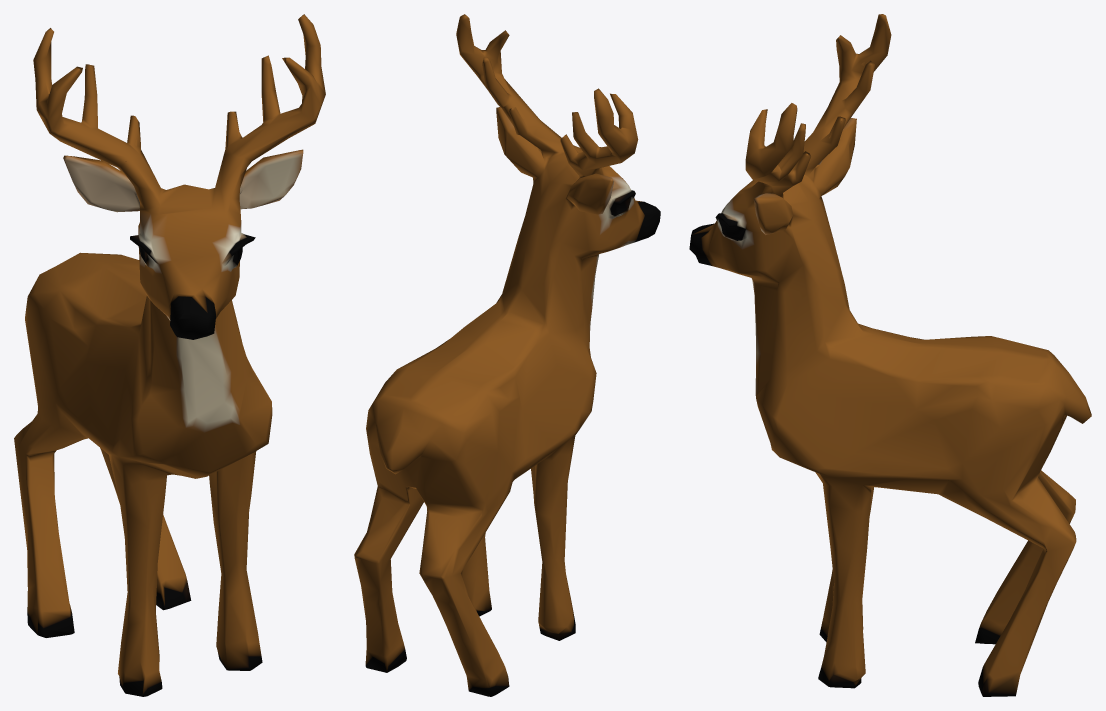
File: gen3d-deer-lod0.glb
The picture shows the model from 3 angles, left to right: view 1: azimuth 30°, elevation 25°; view 2: azimuth 150°, elevation 25°; view 3: azimuth 270°, elevation 25°; orthographic projection. The views are drawn at different scales.
Visible parts, largest first — view 1: part_0; view 2: part_0; view 3: part_0.
Boxes of the visible parts, box(x1,y1,x2,y2) form: part_0: box(14, 14, 325, 696); part_0: box(354, 14, 660, 696); part_0: box(689, 14, 1091, 696).
Size of the model in its own units: 0.3808 by 0.9993 by 0.6083.
